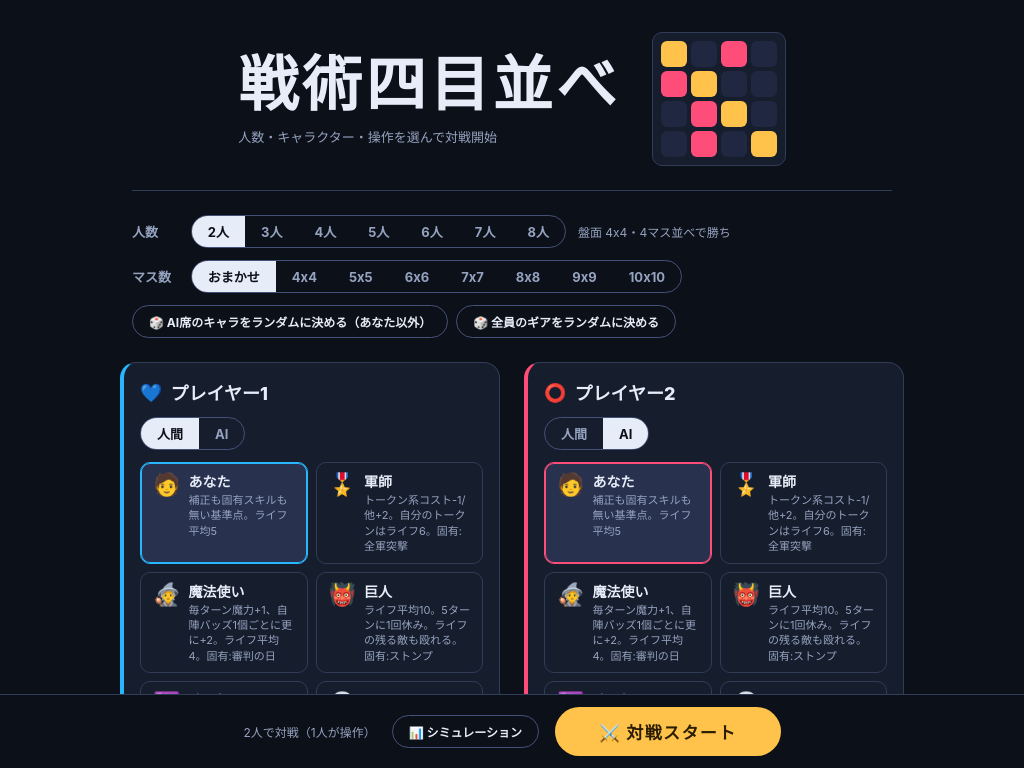
Test case: AI席が1つも無ければランダムボタンは押せない
The image size is (1024, 768).
// 2人戦で席1のAIを人間に切り替える
Click the 2nd button "人間".
click(574, 434)  # box [545,418,603,449]
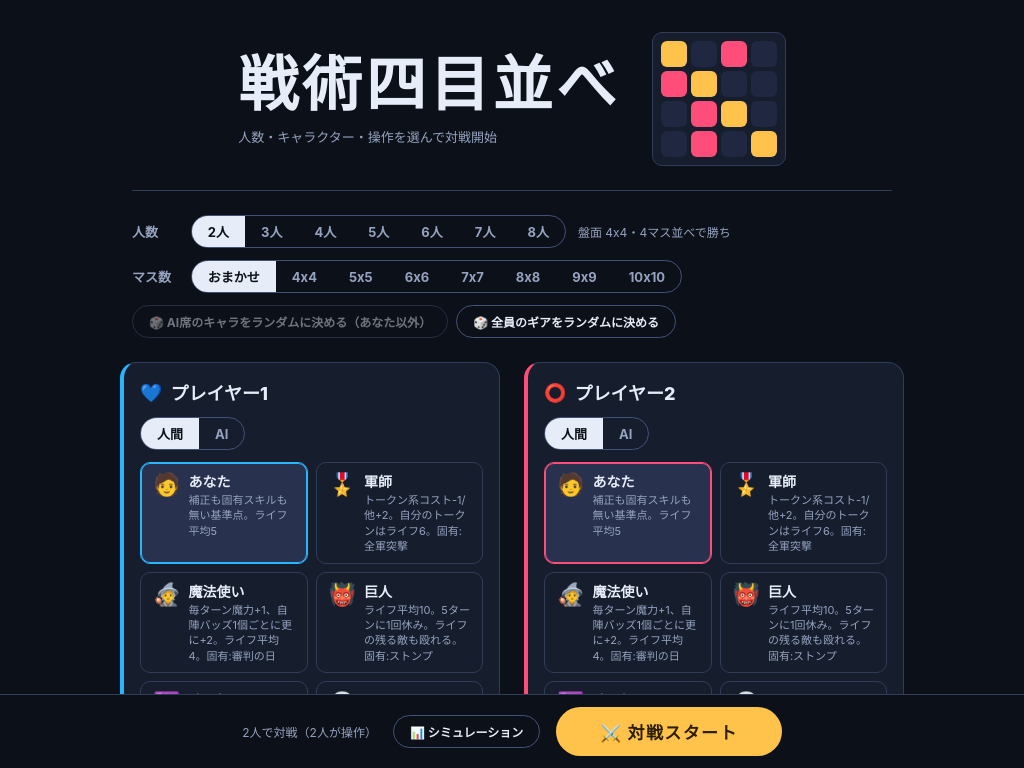
Check: the button "🎲 AI席のキャラをランダムに決める（あなた以外）" is disabled, box [132,305,448,338]
